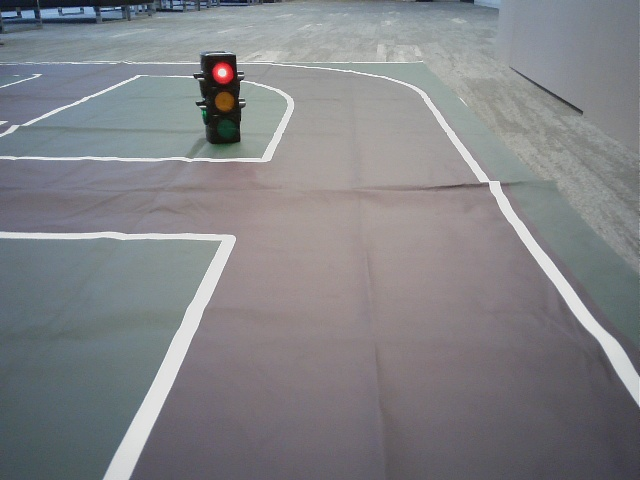red: (208, 58, 236, 140)
